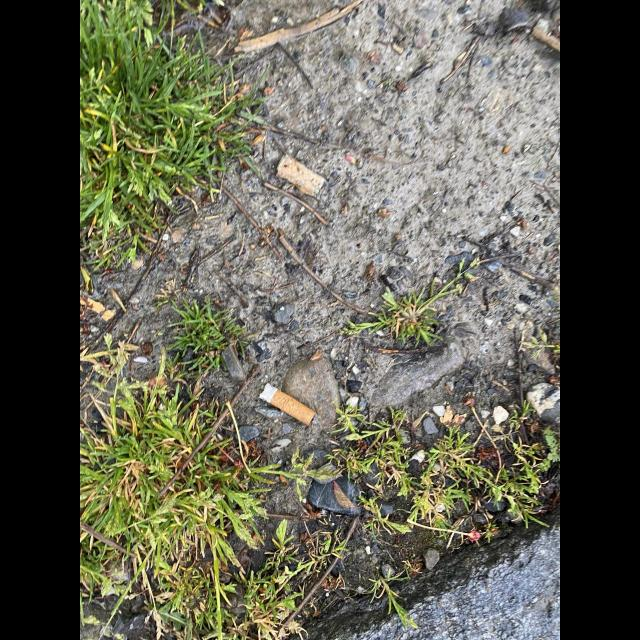cigarette: (259, 382, 316, 426), (275, 152, 326, 197)
